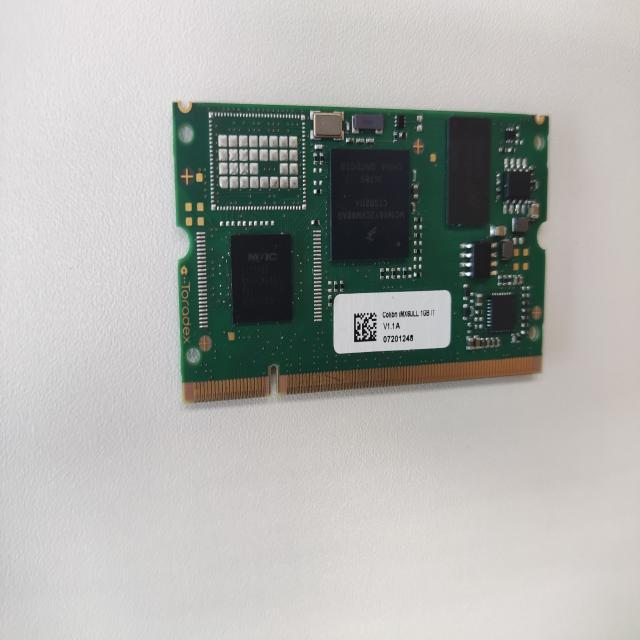som: (160, 84, 559, 414)
